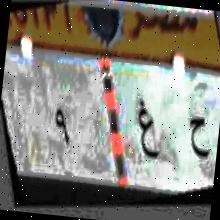7aa: (183, 105, 213, 168)
9: (50, 102, 72, 158)
ghayn: (130, 88, 165, 170)
